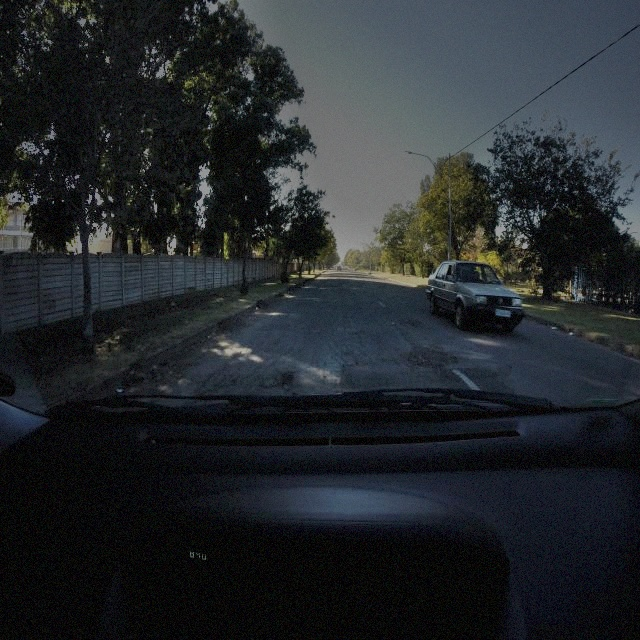pothole: (404, 346, 458, 373), (257, 371, 296, 389), (407, 318, 426, 331)
